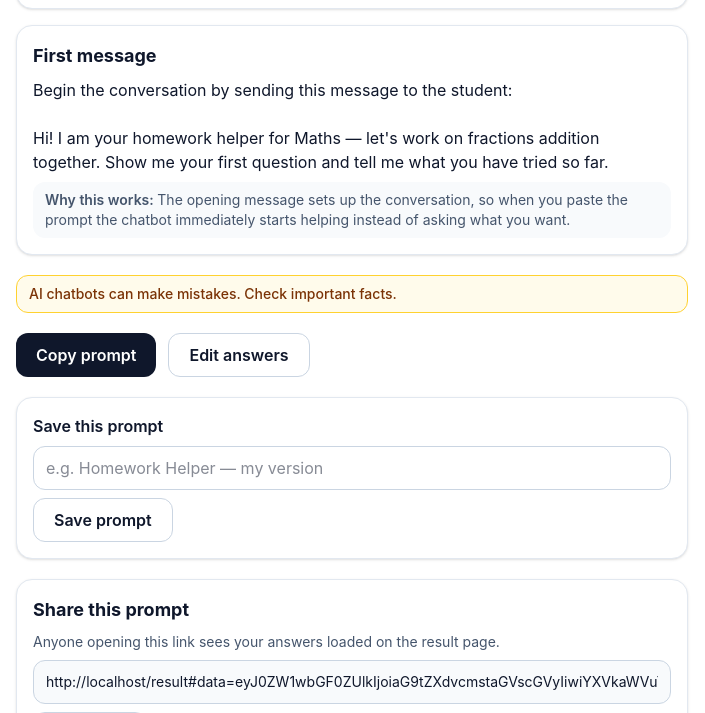
ResultPage › edit answers returns to the builder pre-filled
(page scrolled)
Step 1. Click the button "Edit answers" → (239, 355), box [168, 333, 310, 377]
(page scrolled)
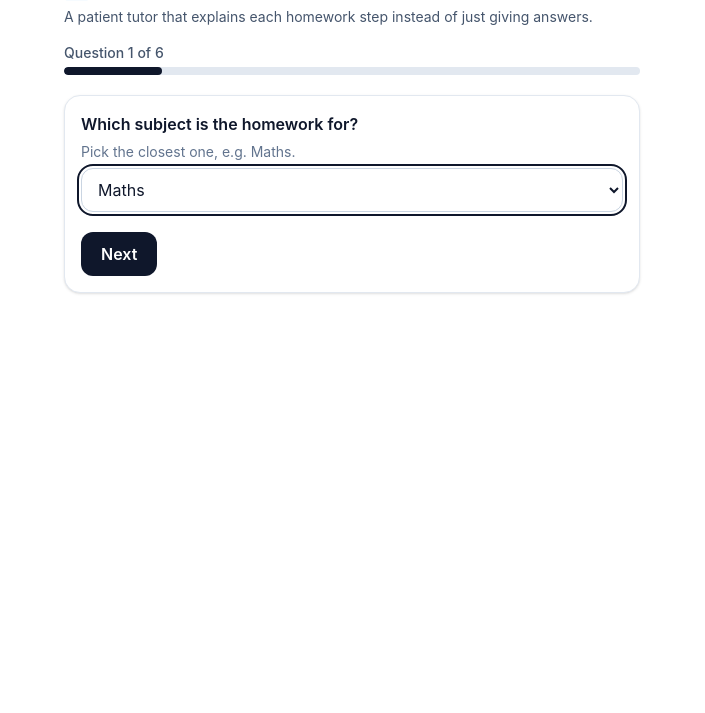
Expected: the dropdown labelled "Which subject is the homework for?" shows "Maths", [81, 168, 623, 212]
